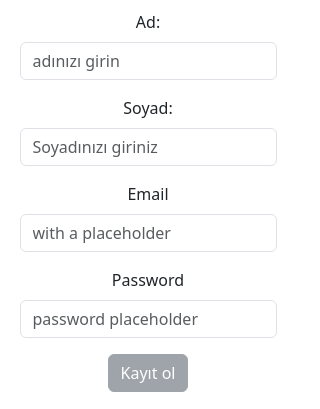
it: Register › form inputlar validatemi › button doğru çalışıyor
The width and height of the screenshot is (320, 409).
Type "berk" into the field with test id "ad" at (149, 61), box [20,42,277,80]
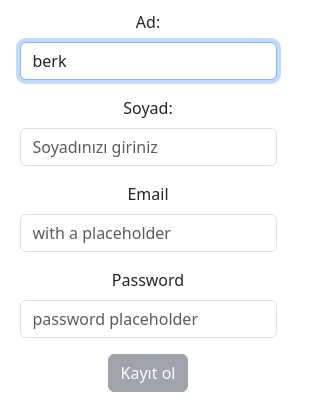
Type "şener" into the field with test id "soyad" at (149, 147), box [20,128,277,166]
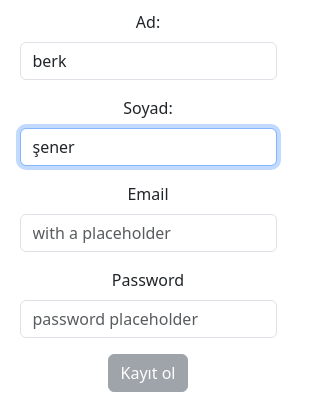
Type "berksener@gmail.com" into the field with test id "email" at (149, 233), box [20,214,277,252]
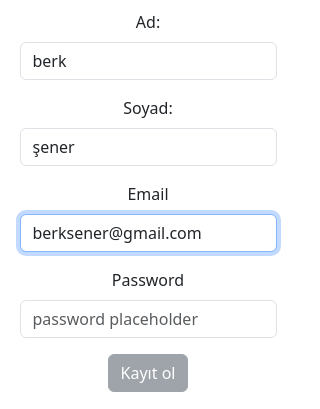
Type "adsadadaB12*" into the password field with test id "password" at (149, 319), box [20,300,277,338]
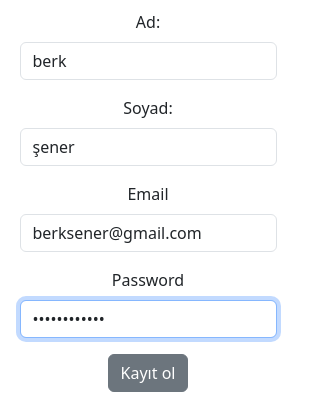
Expected: the button with test id "button" is enabled, [108,354,189,392]
